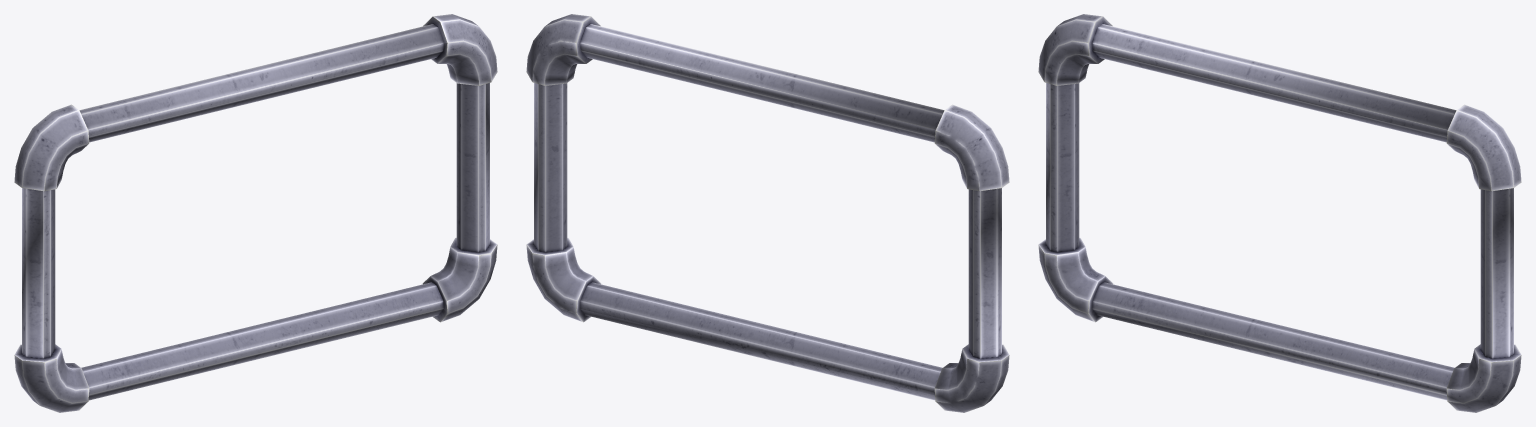
File: RoadSignFrameContinuousTurn.fbx
3 renders of one model, left to right at view 1: azimuth 30°, elevation 25°; view 2: azimuth 150°, elevation 25°; view 3: azimuth 330°, elevation 25°, orthographic.
Visible parts, largest first — view 1: Polygonal_Geometry; view 2: Polygonal_Geometry; view 3: Polygonal_Geometry.
Boxes of the visible parts, bbox=[...] form: Polygonal_Geometry: bbox=[14, 14, 497, 412]; Polygonal_Geometry: bbox=[526, 14, 1009, 412]; Polygonal_Geometry: bbox=[1038, 14, 1521, 412].
Size of the model in its own units: 8.35 by 5.04 by 0.7316.
